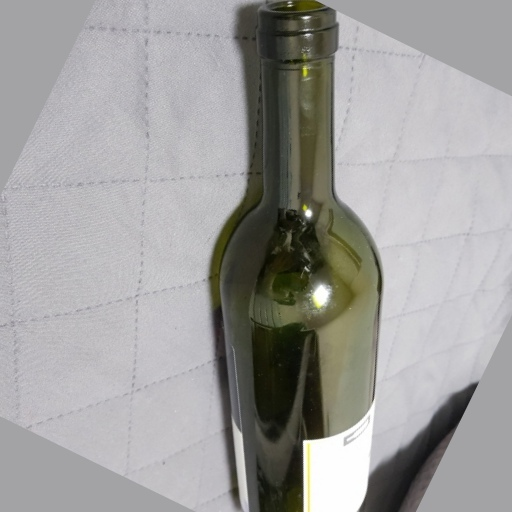Glass_2: (208, 3, 390, 512)
